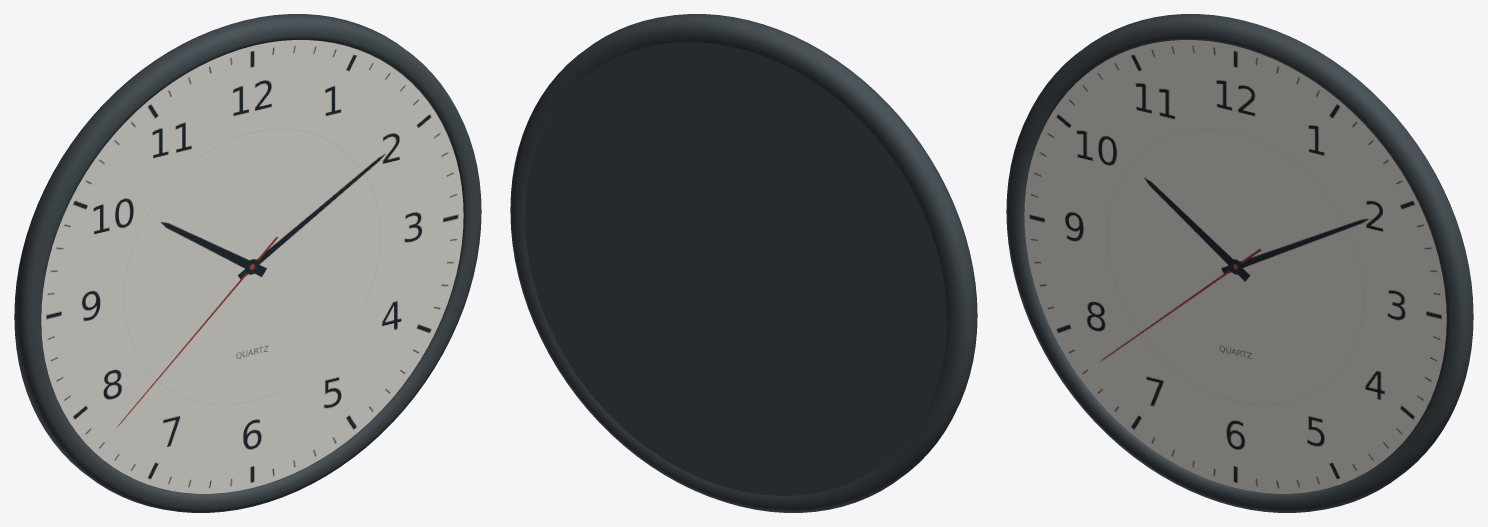
The model's file is 09_wall_clock.glb.
3 renders of one model, left to right at view 1: azimuth 30°, elevation 25°; view 2: azimuth 150°, elevation 25°; view 3: azimuth 330°, elevation 25°, orthographic.
Parts seen in each view (by area): view 1: wall_clock; view 2: wall_clock; view 3: wall_clock.
Boxes of the visible parts, <box> form: wall_clock: <box>14,14,481,512</box>; wall_clock: <box>510,14,977,512</box>; wall_clock: <box>1006,14,1473,512</box>.
Bounding box in the file's own units: 0.6042 × 0.6042 × 0.0339.
3 materials, 1 textured.
